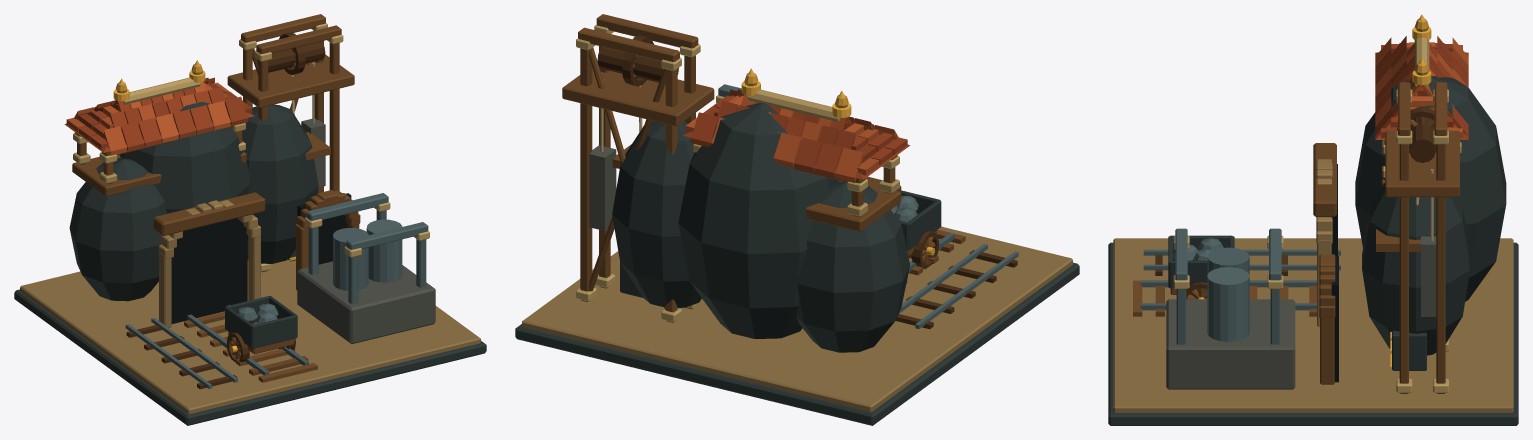
The picture shows the model from 3 angles, left to right: view 1: azimuth 30°, elevation 25°; view 2: azimuth 150°, elevation 25°; view 3: azimuth 270°, elevation 25°; orthographic projection. The views are drawn at different scales.
Visible parts, largest first — view 1: mine_9_structure; view 2: mine_9_structure, mine_9_metal; view 3: mine_9_structure, mine_9_metal.
Part boxes in pixels (box(x1,y1,x2,y2)): mine_9_structure: box(14, 14, 486, 425); mine_9_structure: box(515, 14, 1079, 425); mine_9_metal: box(741, 68, 934, 255); mine_9_structure: box(1108, 19, 1518, 425); mine_9_metal: box(1198, 14, 1431, 369).
Size of the model in its own units: 5.6 by 4.3 by 5.6.
